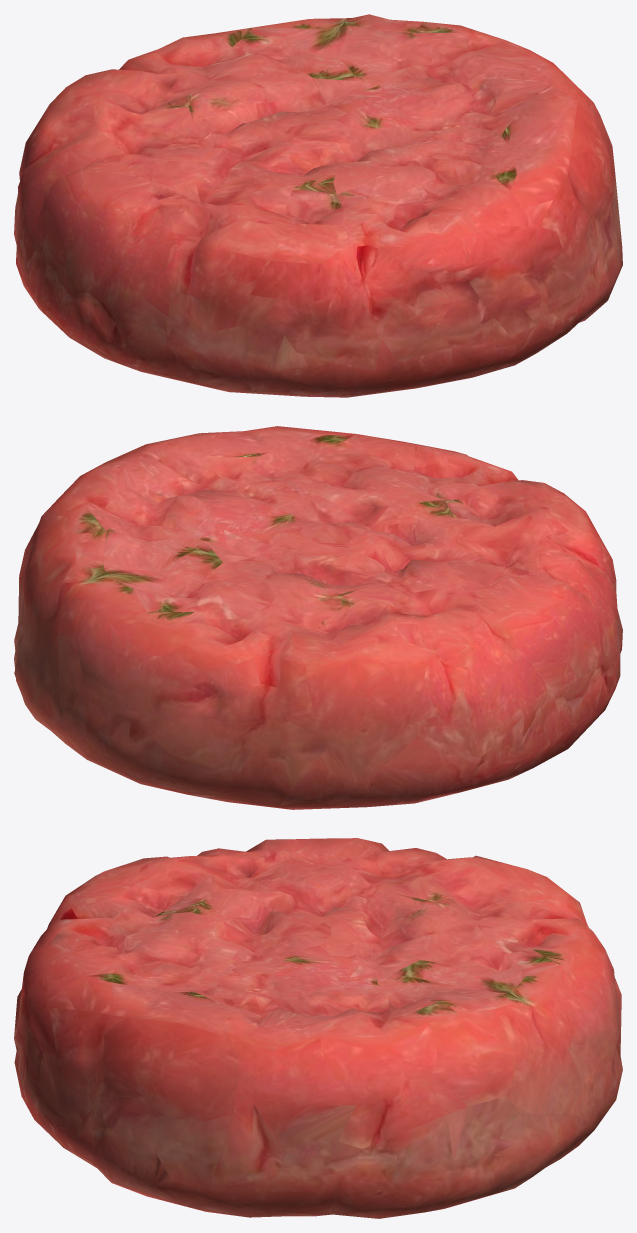
Rendered from burger-raw.glb.
3 views of the same model, one above another, from view 1: azimuth 30°, elevation 25°; view 2: azimuth 150°, elevation 25°; view 3: azimuth 270°, elevation 25° (orthographic).
Visible parts, largest first — view 1: Object_4; view 2: Object_4; view 3: Object_4.
Part boxes in pixels (x1,y1,x2,y2): Object_4: (14, 14, 622, 397); Object_4: (14, 426, 622, 809); Object_4: (14, 838, 622, 1218).
Size of the model in its own units: 0.1516 by 0.0531 by 0.1513.
1 material, 1 textured.
